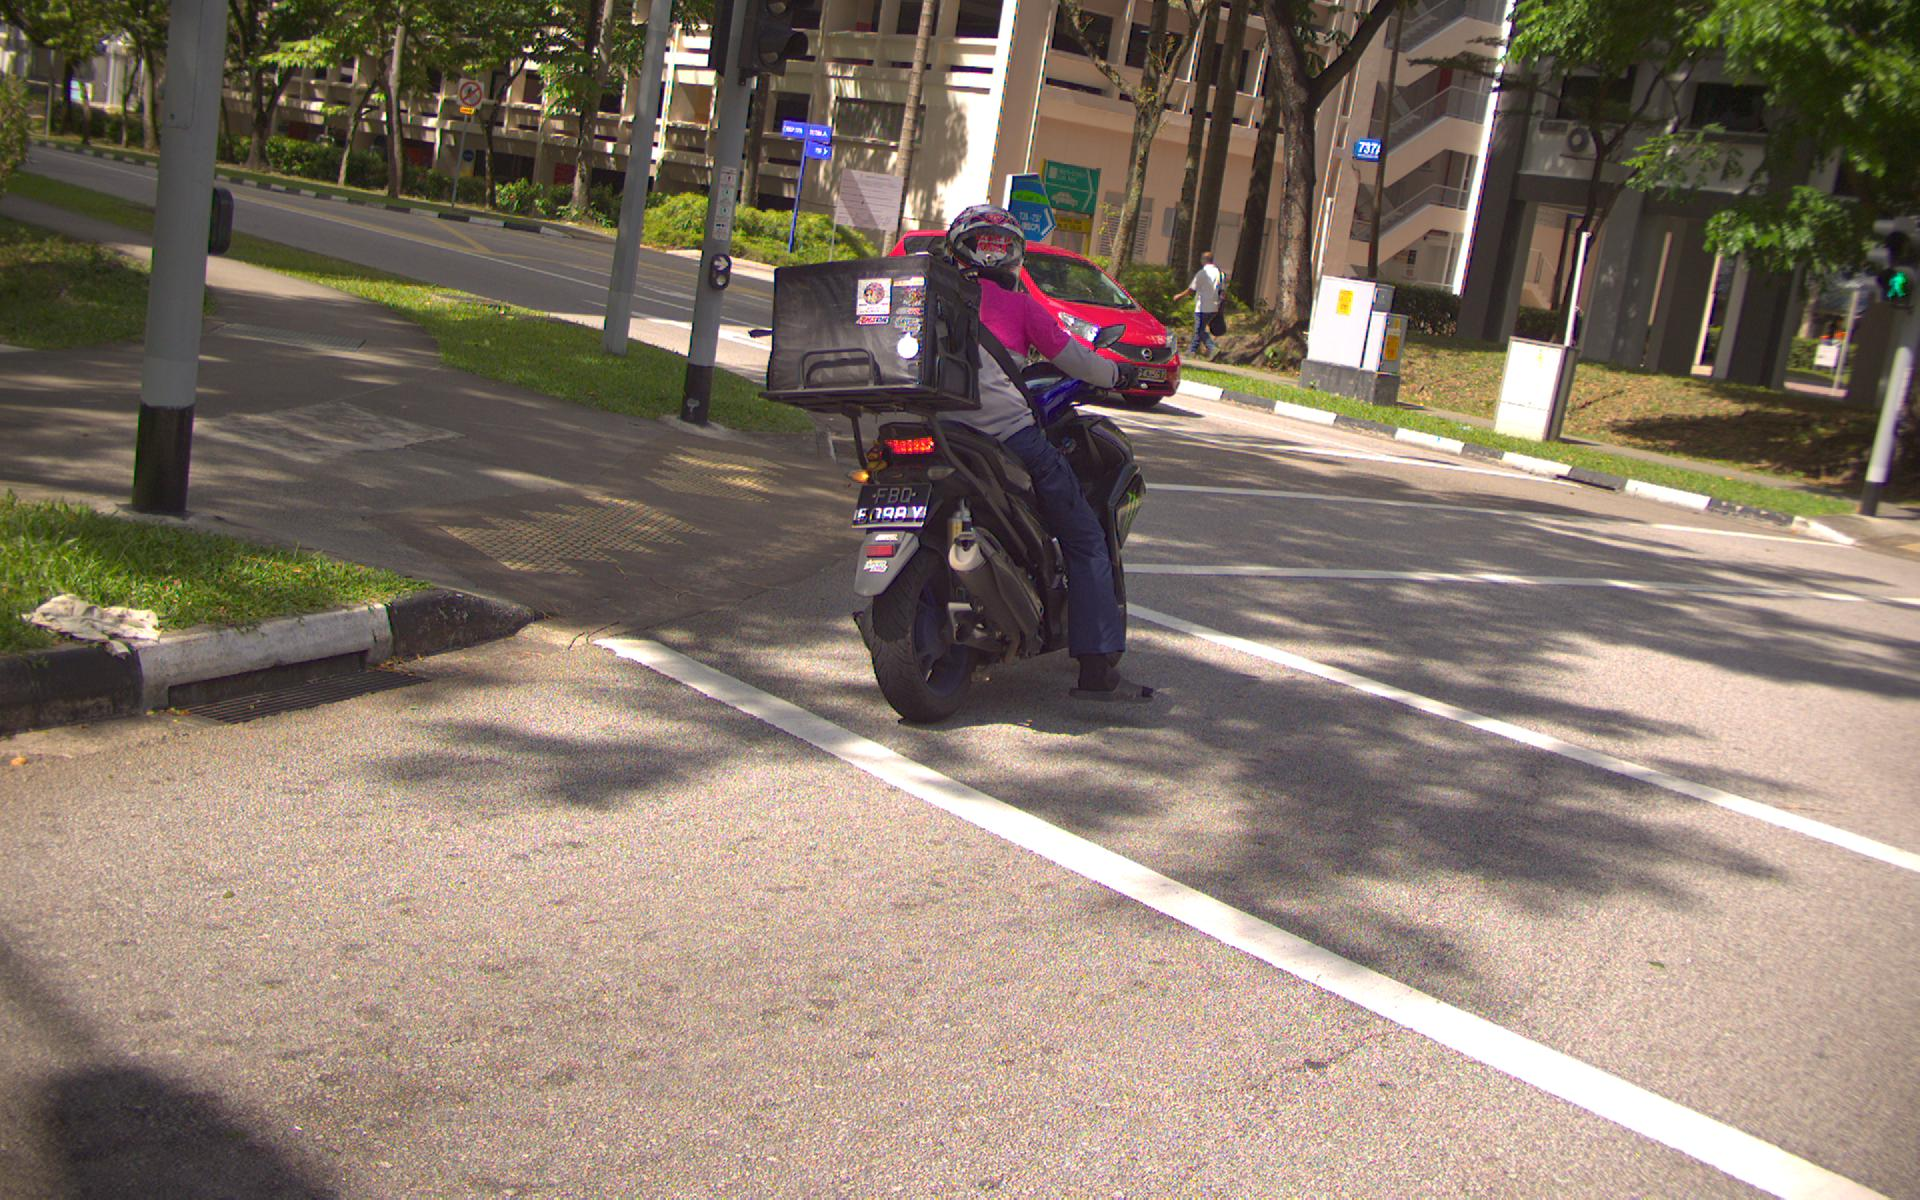curb_dic_low: (153, 641, 442, 724)
pathway_low: (218, 384, 521, 534), (10, 512, 206, 647), (12, 371, 194, 503)
road_turf_low: (478, 312, 610, 395), (6, 236, 102, 337)
